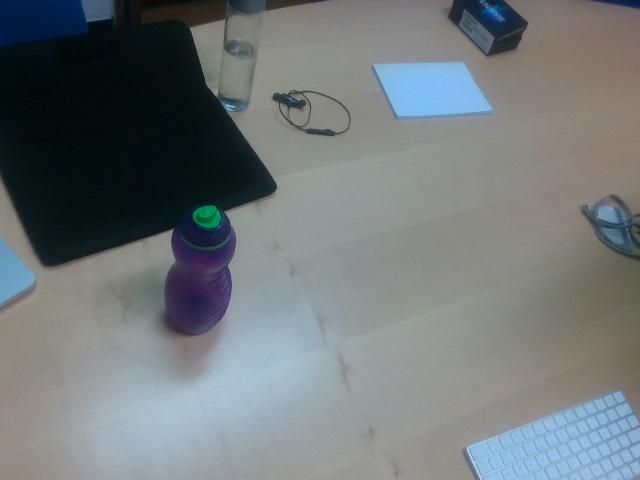bottle: (163, 203, 236, 335)
